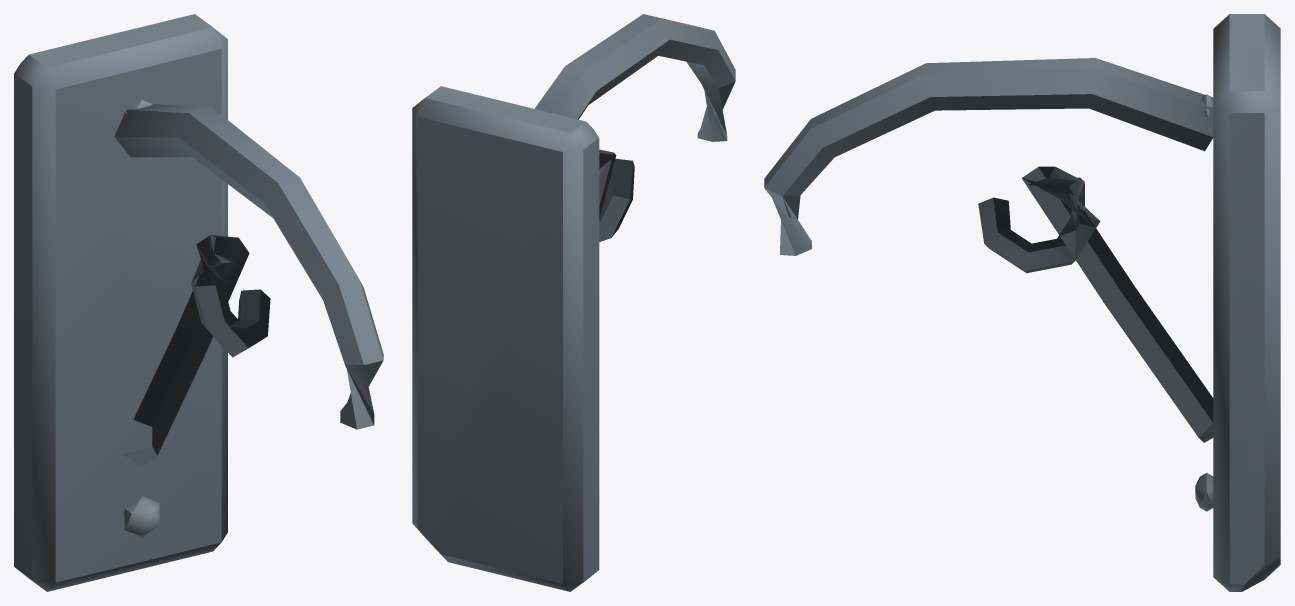
The model's file is ruins-bracket-v2.glb.
3 renders of one model, left to right at view 1: azimuth 30°, elevation 25°; view 2: azimuth 150°, elevation 25°; view 3: azimuth 270°, elevation 25°, orthographic. The views are drawn at different scales.
Visible parts, largest first — view 1: 0_ruins_bracket; view 2: 0_ruins_bracket; view 3: 0_ruins_bracket.
Boxes of the visible parts, x1,y1,x2,y2 form: 0_ruins_bracket: (14,14,383,591); 0_ruins_bracket: (412,14,735,591); 0_ruins_bracket: (764,14,1280,591).
Bounding box in the file's own units: 0.16 × 0.41 × 0.3835.
